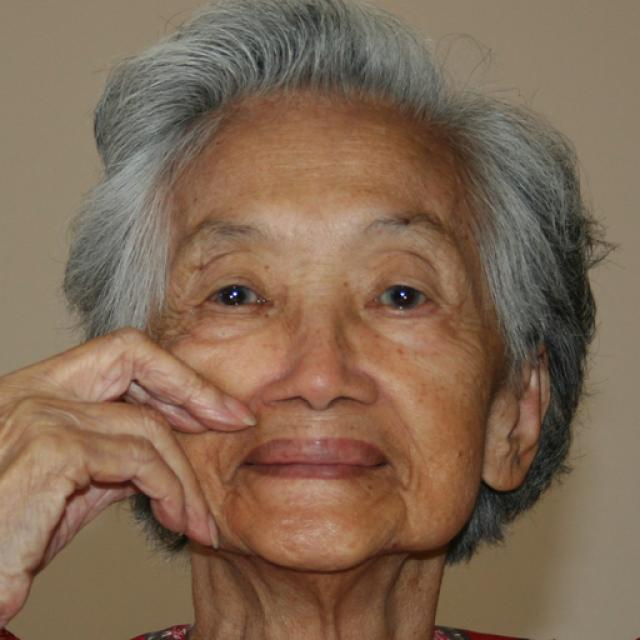surprise: (149, 104, 499, 574)
